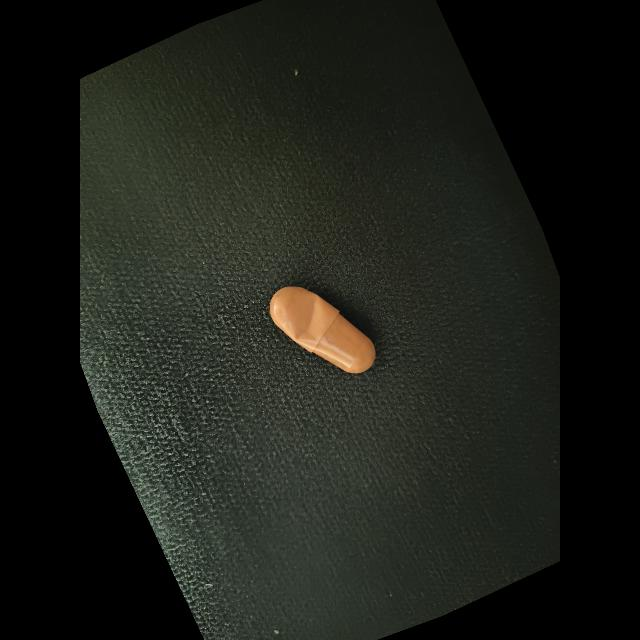Defective Capsule: (284, 296, 322, 342)
